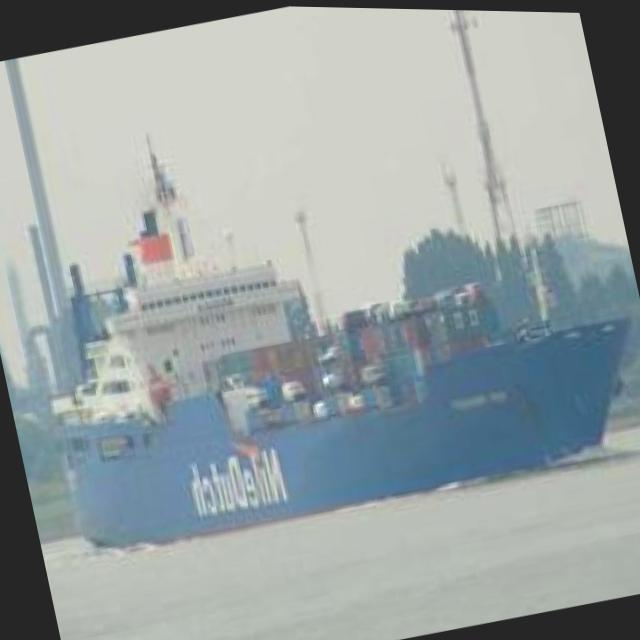ship2: (54, 208, 632, 549)
